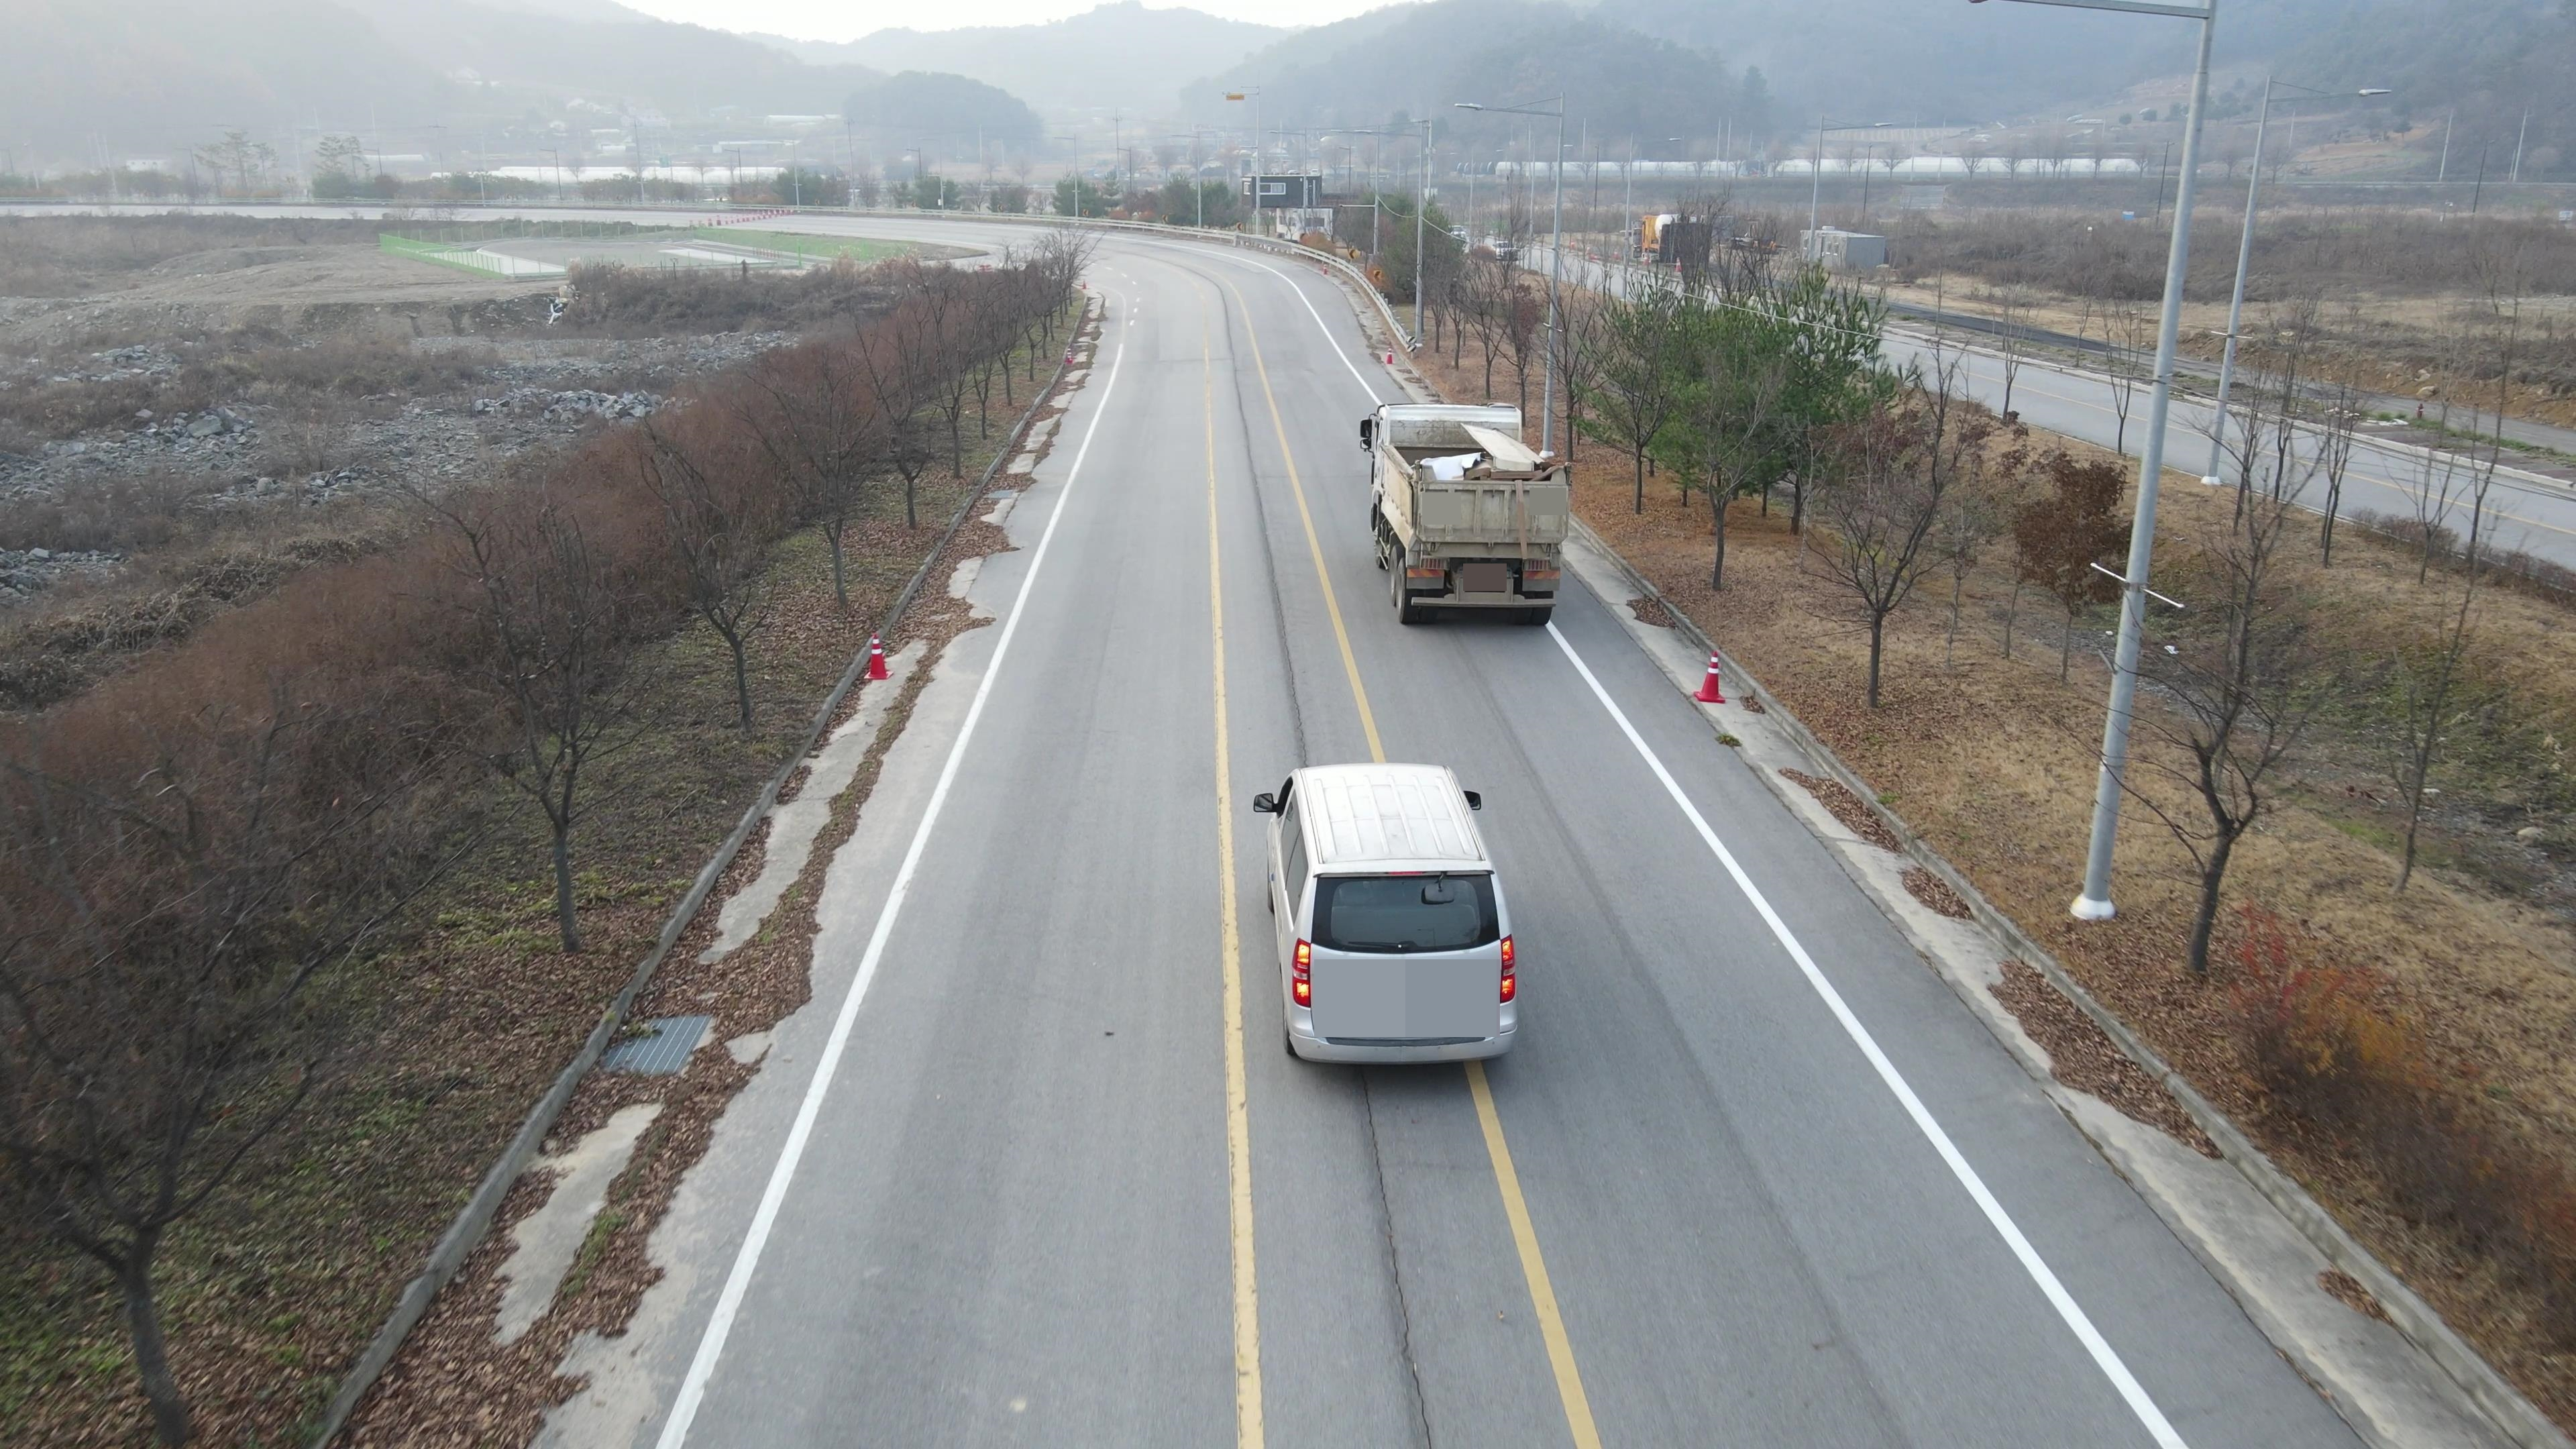불법차량: (1360, 401, 1572, 627)
